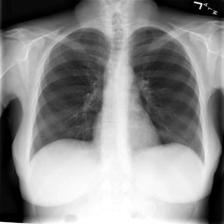normal: (27, 21, 208, 167)
